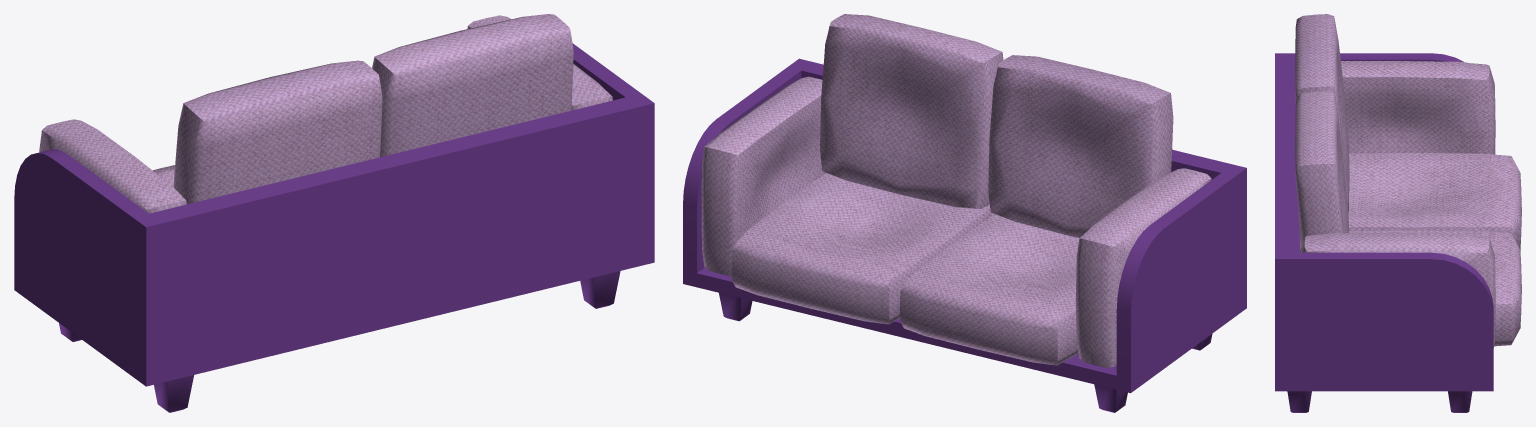
The model's file is furniture_seating_210073.glb.
The picture shows the model from 3 angles, left to right: view 1: azimuth 30°, elevation 25°; view 2: azimuth 150°, elevation 25°; view 3: azimuth 270°, elevation 25°; orthographic projection. The views are drawn at different scales.
Parts seen in each view (by area): view 1: furniture_seating_210073; view 2: furniture_seating_210073; view 3: furniture_seating_210073.
Boxes of the visible parts, <box> form: furniture_seating_210073: <box>14,14,654,412</box>; furniture_seating_210073: <box>683,14,1246,412</box>; furniture_seating_210073: <box>1275,14,1521,412</box>.
Size of the model in its own units: 1.61 by 0.8773 by 0.8179.
Materials: 1 (1 with a texture image).
